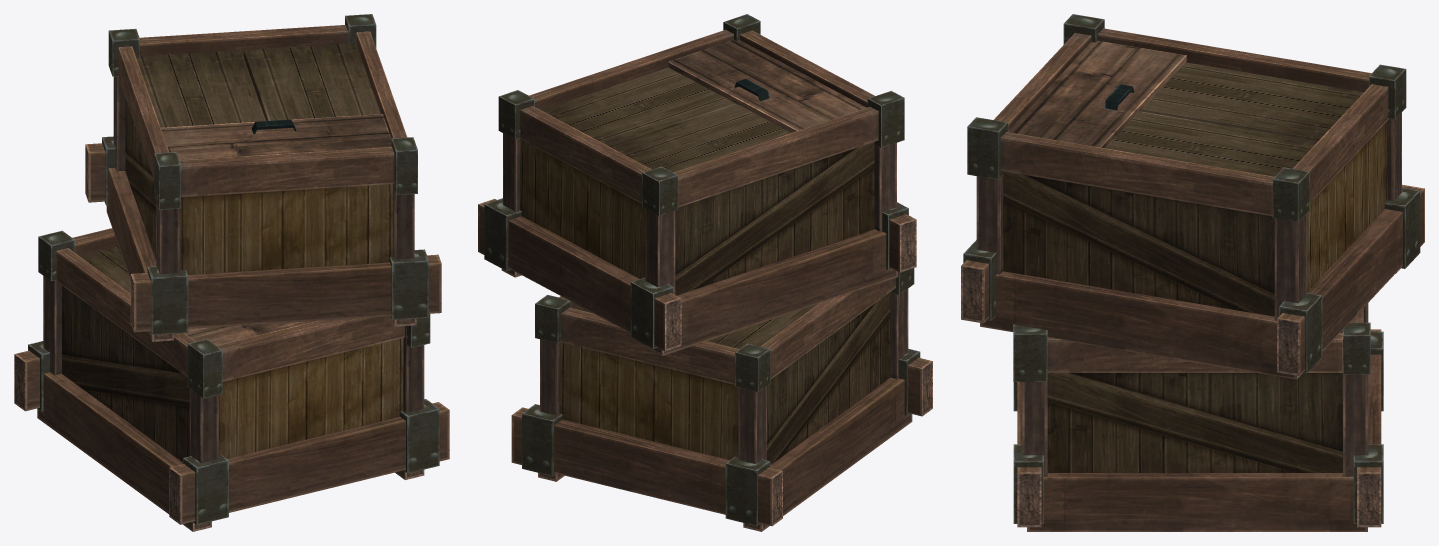
The model's file is cart_shopbox01.fbx.
3 renders of one model, left to right at view 1: azimuth 30°, elevation 25°; view 2: azimuth 150°, elevation 25°; view 3: azimuth 270°, elevation 25°, orthographic. The views are drawn at different scales.
Parts seen in each view (by area): view 1: cart_shopbx01; view 2: cart_shopbx01; view 3: cart_shopbx01.
Part boxes in pixels (x1,y1,x2,y2): cart_shopbx01: [14, 14, 449, 531]; cart_shopbx01: [478, 14, 932, 531]; cart_shopbx01: [961, 14, 1424, 531].
Bounding box in the file's own units: 2.28 × 2.16 × 2.35.
